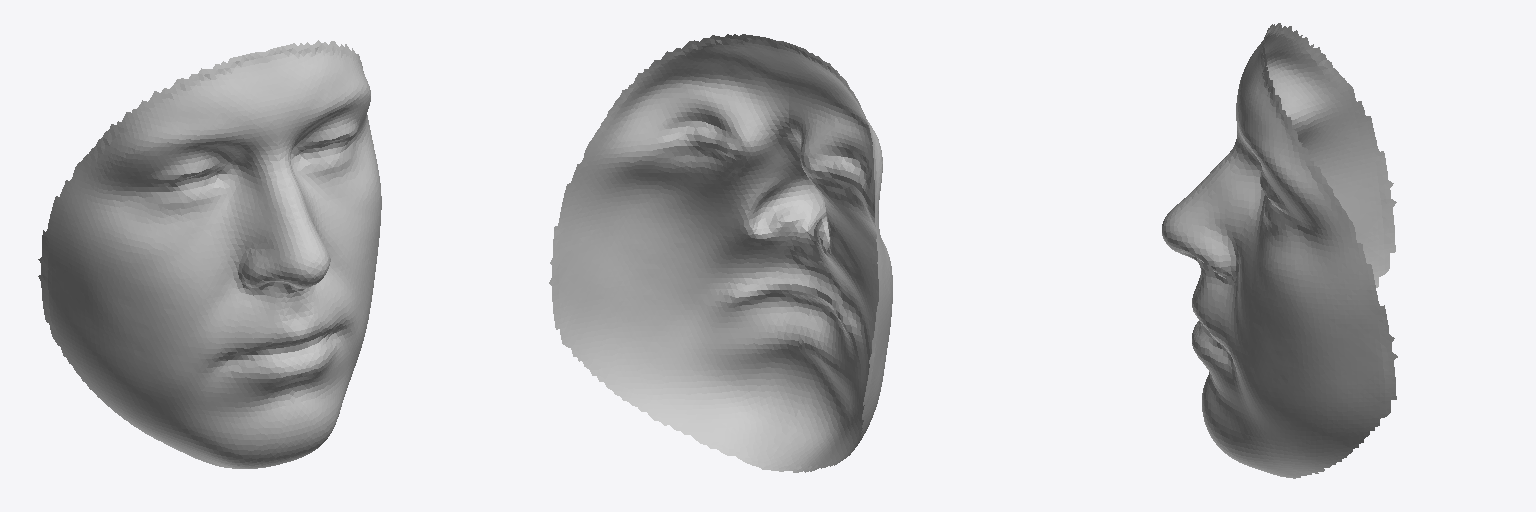
Rendered from SIMPOP_02.obj.
3 renders of one model, left to right at view 1: azimuth 30°, elevation 25°; view 2: azimuth 150°, elevation 25°; view 3: azimuth 270°, elevation 25°, orthographic.
Parts seen in each view (by area): view 1: SIMPOP_02; view 2: SIMPOP_02; view 3: SIMPOP_02.
Part boxes in pixels (bbox=[...]): SIMPOP_02: bbox=[38, 40, 381, 468]; SIMPOP_02: bbox=[549, 34, 892, 472]; SIMPOP_02: bbox=[1162, 23, 1397, 478].
Bounding box in the file's own units: 152 × 191 × 96.95.